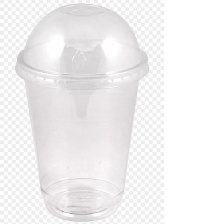glass: (11, 1, 153, 224)
